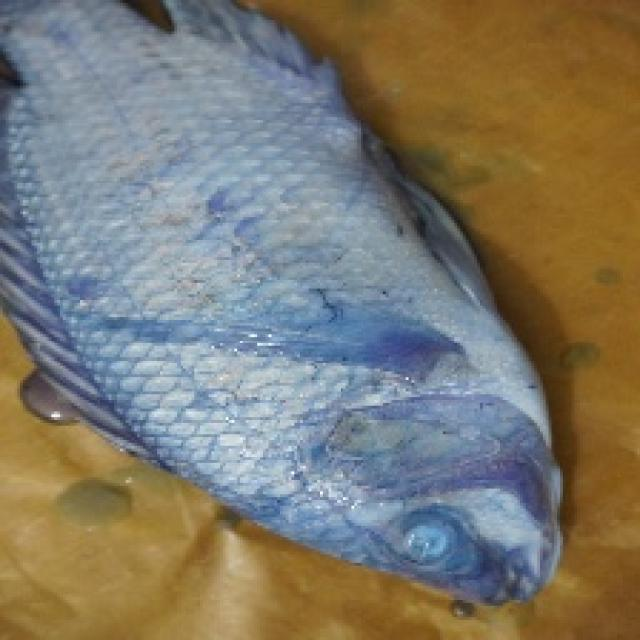Non-Fresh: (49, 145, 601, 614), (387, 500, 470, 580)
